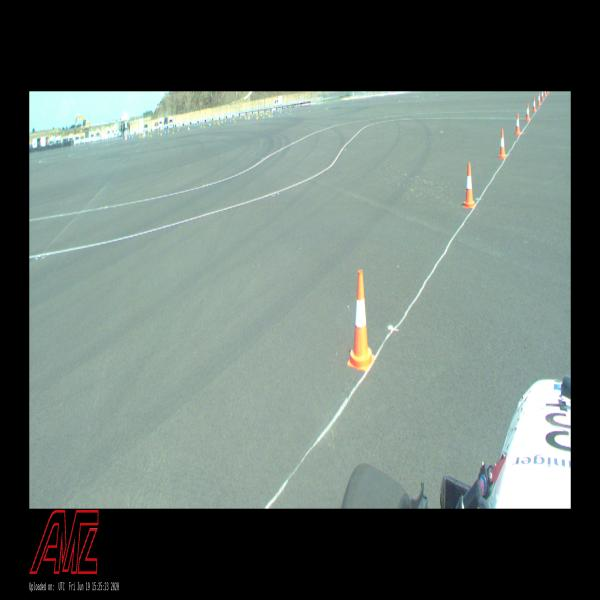orange_cone: (347, 270, 375, 372), (463, 163, 475, 208), (498, 129, 507, 159), (514, 113, 521, 136), (525, 103, 531, 121), (532, 97, 536, 112), (537, 93, 541, 104)
